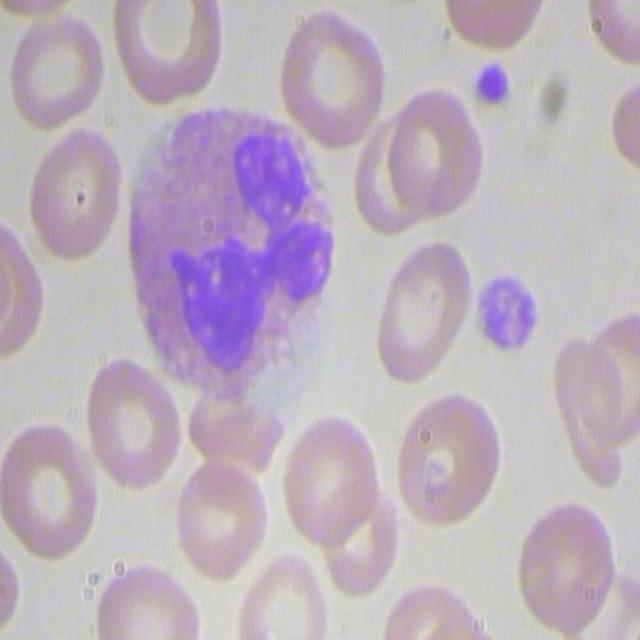RBC: (353, 88, 486, 232), (387, 386, 503, 537), (283, 3, 389, 166), (552, 296, 639, 492), (372, 230, 473, 379), (279, 409, 387, 545), (86, 356, 184, 501), (0, 418, 94, 567), (25, 126, 123, 267), (514, 502, 617, 634), (7, 5, 108, 136), (105, 2, 224, 108), (170, 461, 266, 584), (232, 545, 334, 638), (91, 563, 208, 640), (376, 580, 497, 640), (590, 60, 640, 177), (0, 224, 42, 360), (437, 0, 550, 48), (566, 576, 640, 640), (587, 0, 639, 67), (0, 556, 36, 640)
WBC: (132, 99, 346, 407)
platelets: (477, 276, 544, 379), (468, 54, 512, 111)
